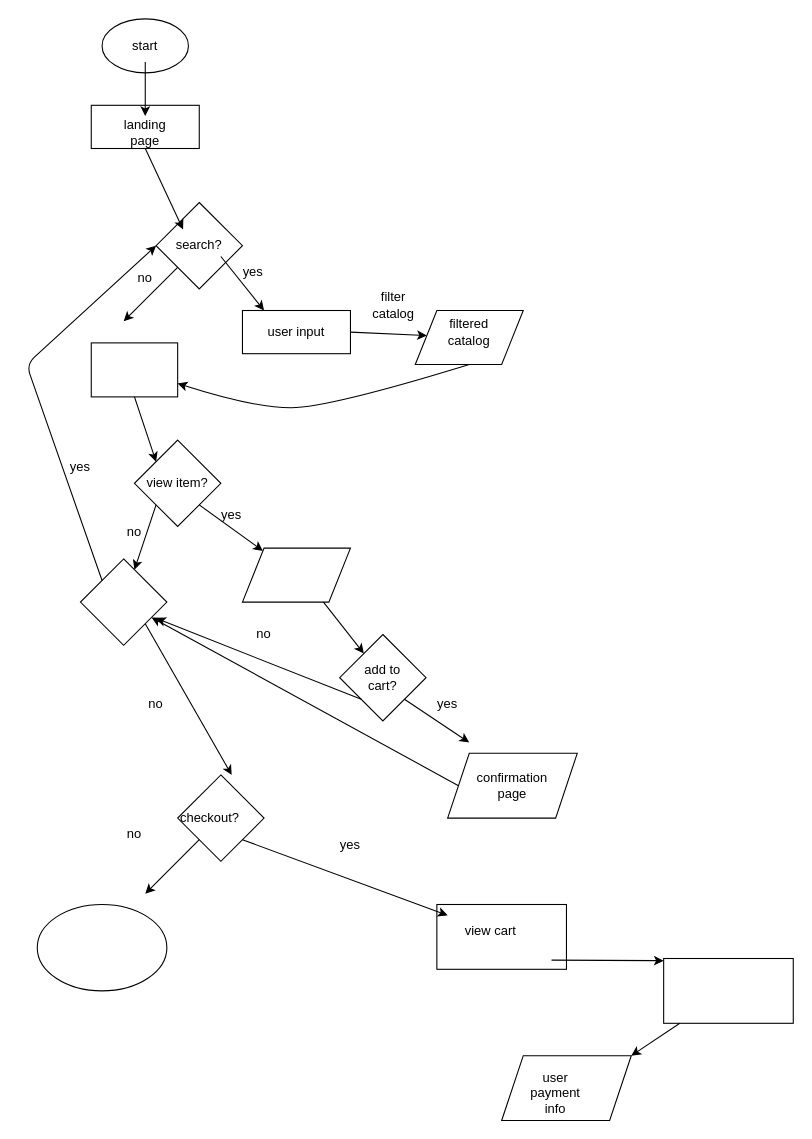
This 812x1139 diagram has some shape labels left out. Here are the shapes that lost their labels. From the top down, the centre of each, then its label:
the point at 134,369: brows catalog
the point at 295,574: product page
the point at 123,601: continue browsing?
the point at 101,947: leave site
the point at 728,990: view payment
